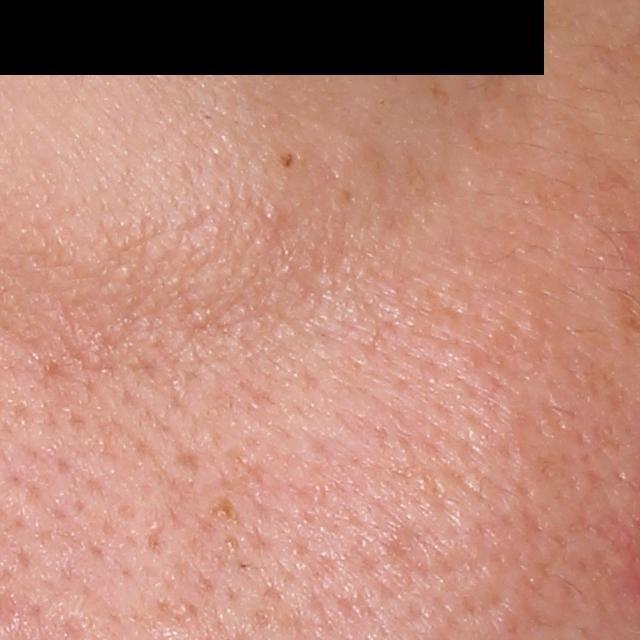nevus: (276, 151, 299, 172)
